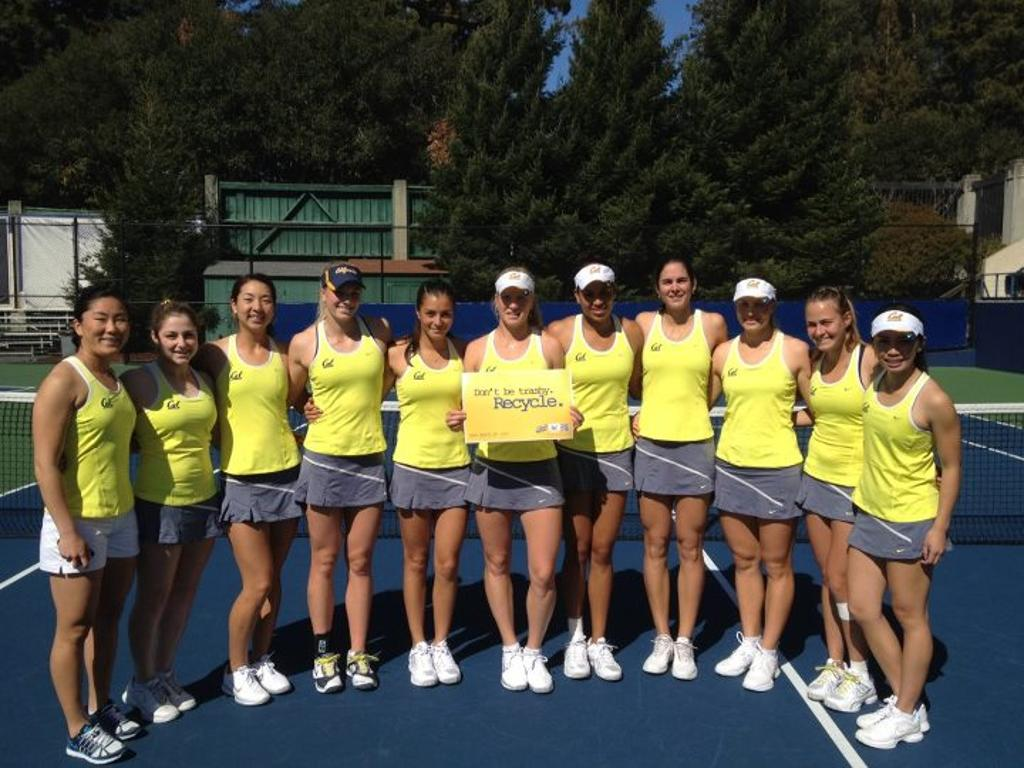face: (83, 296, 129, 355), (158, 311, 199, 364), (805, 301, 844, 351), (873, 328, 916, 372), (236, 281, 274, 330), (419, 293, 453, 340), (659, 262, 691, 310), (325, 280, 361, 321), (498, 289, 533, 329), (579, 280, 613, 321), (736, 293, 769, 333)
